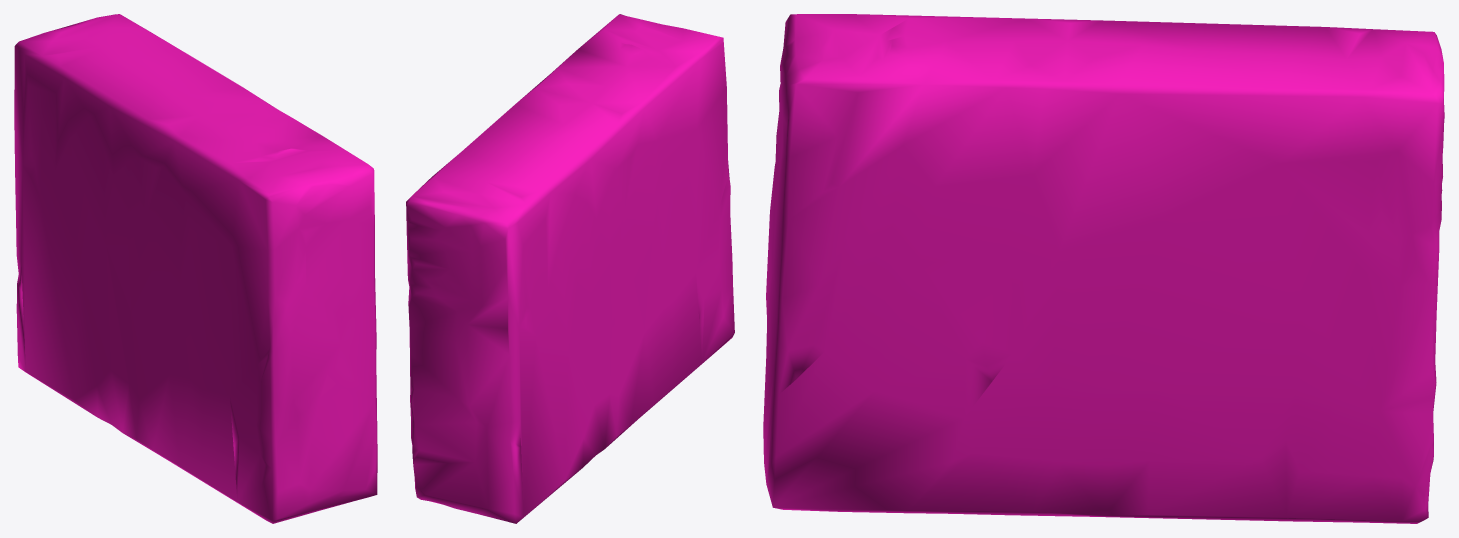
File: rectangularCube2_5.dae
3 renders of one model, left to right at view 1: azimuth 30°, elevation 25°; view 2: azimuth 150°, elevation 25°; view 3: azimuth 270°, elevation 25°, orthographic. The views are drawn at different scales.
Visible parts, largest first — view 1: BroccoliSoup_800_tex_019; view 2: BroccoliSoup_800_tex_019; view 3: BroccoliSoup_800_tex_019.
Boxes of the visible parts, x1,y1,x2,y2 form: BroccoliSoup_800_tex_019: [14, 14, 377, 523]; BroccoliSoup_800_tex_019: [406, 14, 734, 523]; BroccoliSoup_800_tex_019: [763, 14, 1444, 523].
Bounding box in the file's own units: 0.0168 × 0.0597 × 0.045.
